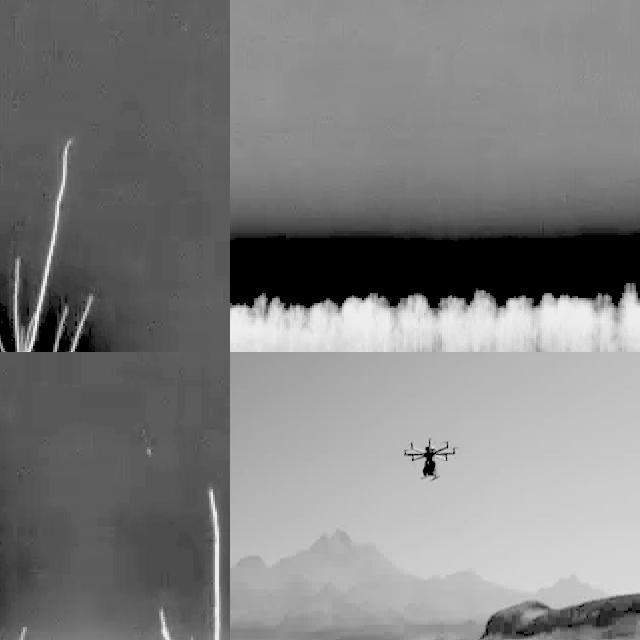0: (138, 433, 162, 466)
drone: (402, 431, 459, 486)
